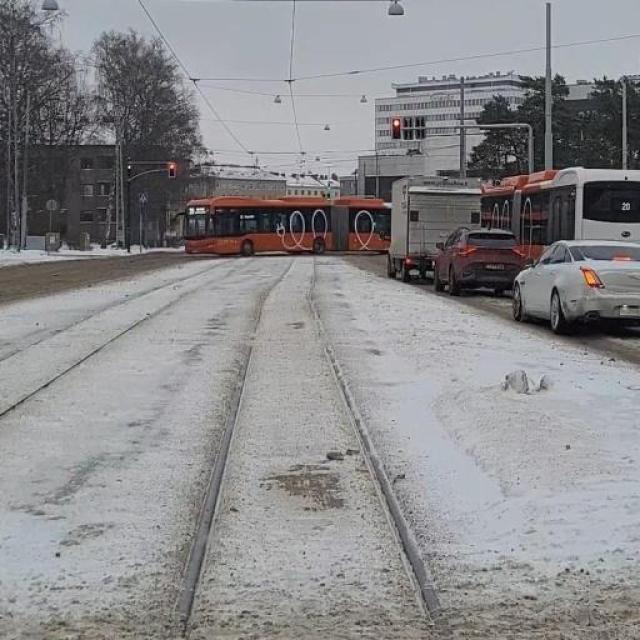vehicle: (177, 189, 398, 258), (501, 234, 640, 340), (378, 177, 490, 274), (435, 231, 522, 294)
